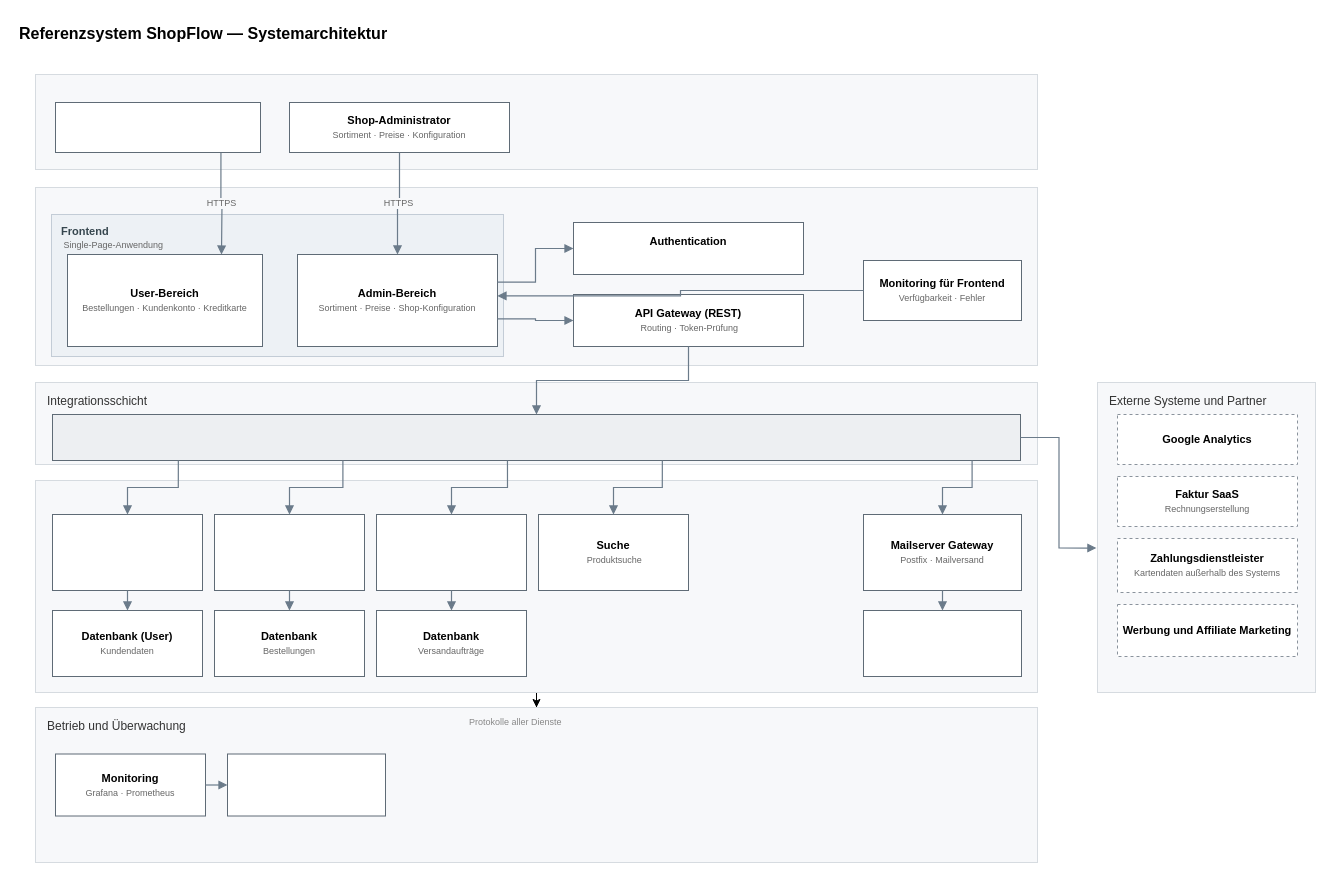
Image size: 1333x880. Some labels were removed from this diagram. The box of each missing label's shape, as (x1, y1, x2, y2) in pixels:
Anwendungs- und Datenschicht: (34, 480, 1038, 692)
Backend Shop-Service · Katalog · Warenkorb: (52, 514, 202, 590)
Bestellung Annahme · Status · Storno: (214, 514, 364, 590)
Frontend- und Zugriffsschicht: (34, 186, 1038, 366)
Kunde Browser · registriert / Gast: (54, 102, 260, 152)
Log Server DB OpenSearch · Protokolle: (226, 753, 386, 816)
Logistik Sendungsverfolgung: (376, 514, 526, 590)
Mailserver SMTP-Relay: (862, 610, 1022, 676)
Middleware Service Anbindung an Backend-Service und Externe Systeme: (52, 414, 1020, 460)
Zugangskanäle: (34, 74, 1038, 170)
